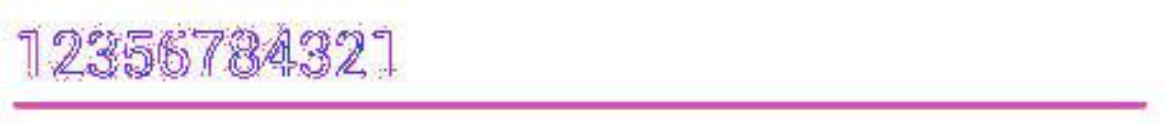EditText: (1, 1, 1164, 139)
